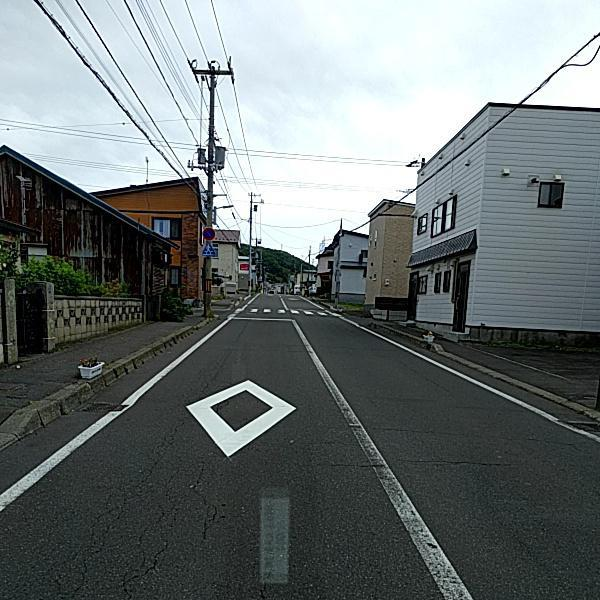D10: (359, 419, 509, 446), (392, 453, 509, 475), (514, 433, 586, 452), (309, 457, 396, 472)
D20: (53, 375, 234, 599)
D44: (310, 351, 467, 597)
